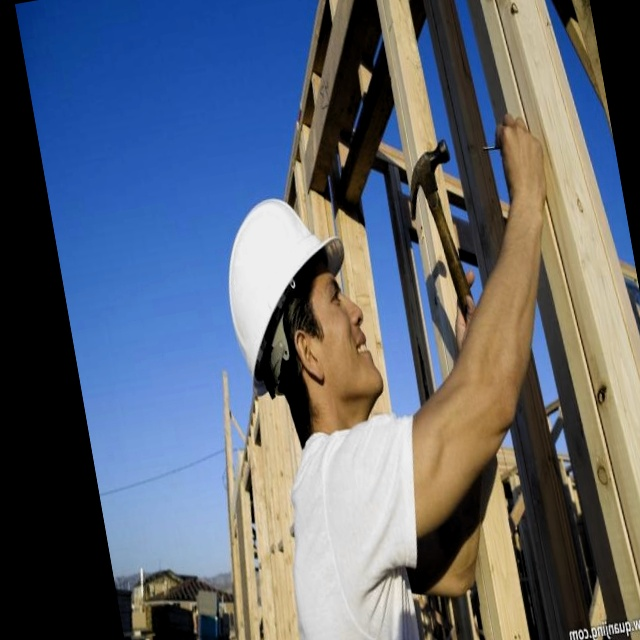Con_Casco: (214, 179, 387, 431)
Sin_Chaleco: (258, 411, 462, 640)
